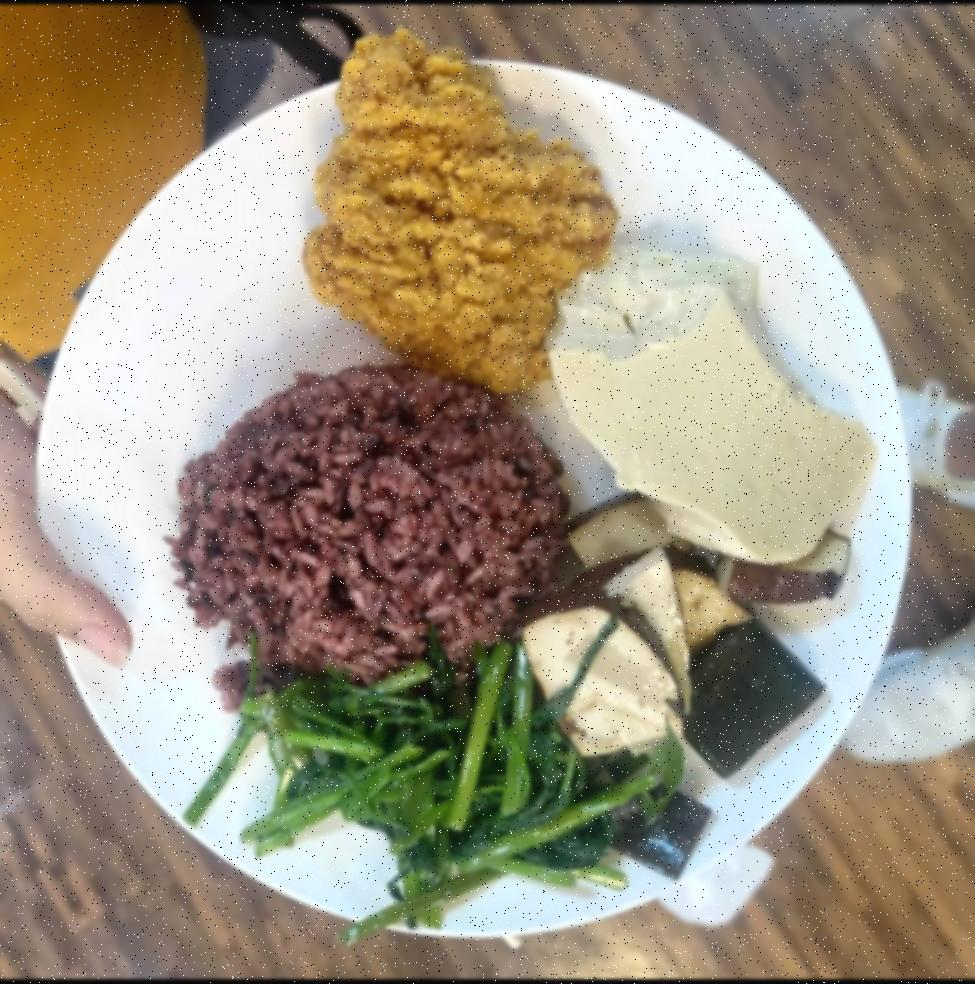big fried chicken leg: (20, 41, 905, 954)
braised fish: (164, 359, 568, 716)
braised fish fillet: (234, 675, 670, 916), (542, 245, 862, 561), (512, 506, 846, 761)
braised pork: (300, 31, 611, 391)
